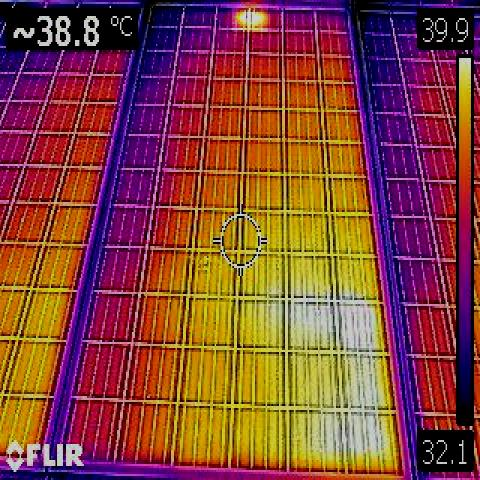fault: (289, 293, 382, 457), (232, 8, 268, 32)
